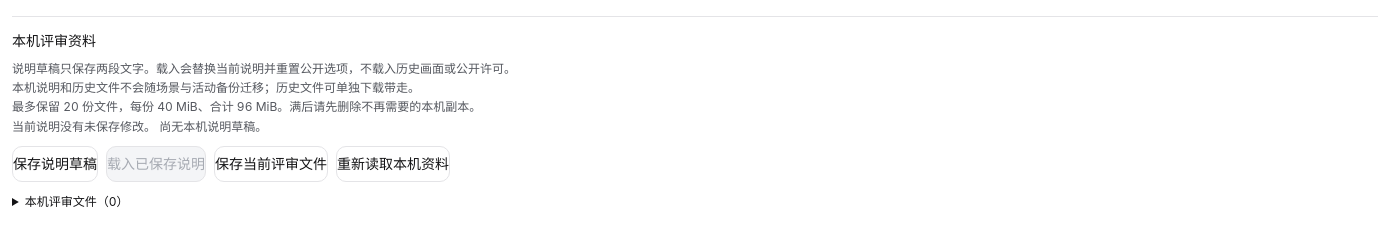
Test: local review library panel › does not claim success when a file save returns but the file cannot be read back
Check: the button "保存说明草稿" is enabled, box [12, 146, 98, 182]
What coordinates should you click on to do the following:
click the button "保存当前评审文件"
I would click on:
 (271, 164)
Its box is [214, 146, 328, 182].
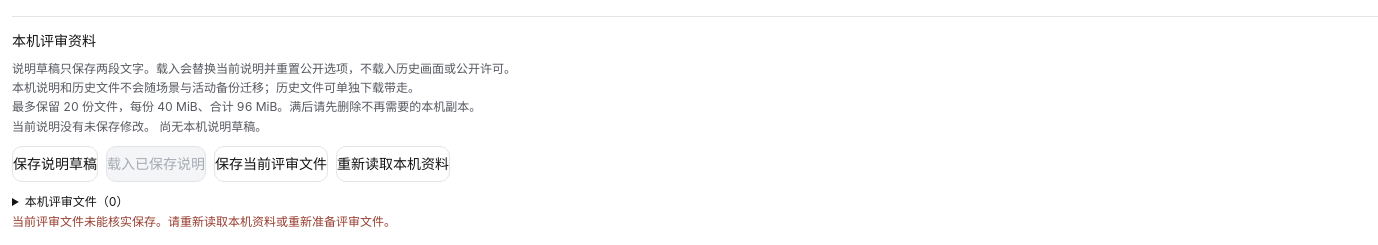
Check: the heading "本机评审文件（0）" is shown, box [25, 194, 128, 209]
Check: the message "当前评审文件未能核实保存。请重新读取本机资料或重新准备评审文件。" is shown, box [12, 214, 396, 229]
